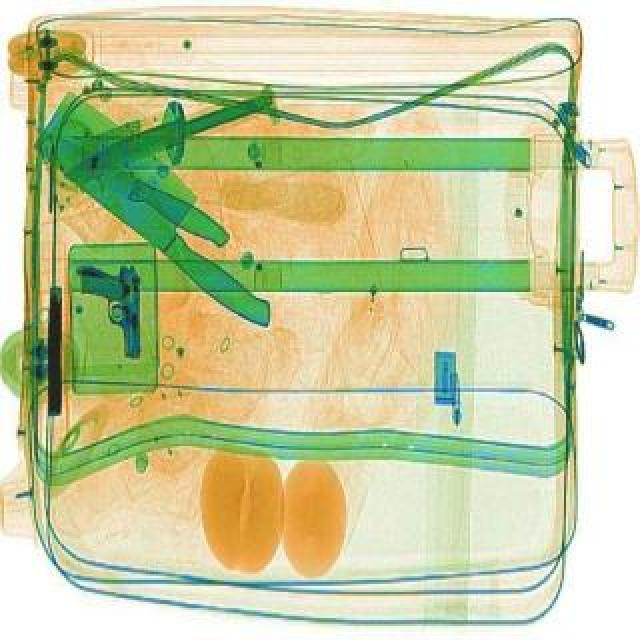gun: (80, 266, 140, 362), (46, 290, 62, 420)
knife: (16, 92, 312, 338), (26, 132, 238, 254), (60, 90, 272, 192)
